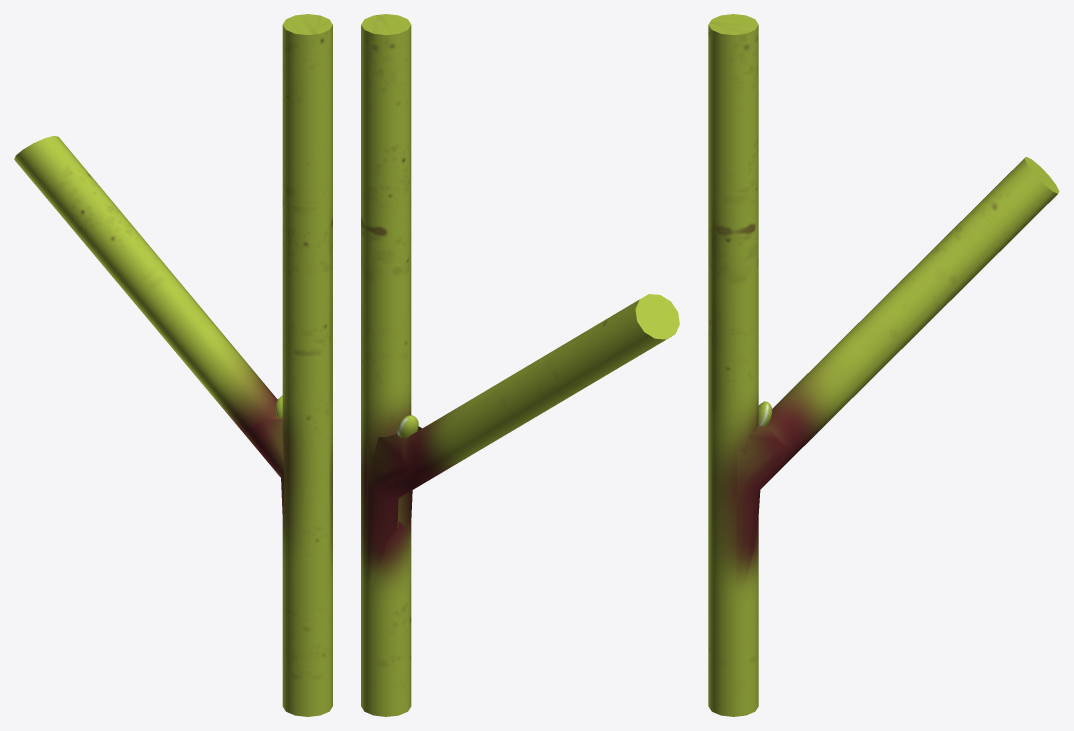
File: axillary.fbx
The picture shows the model from 3 angles, left to right: view 1: azimuth 30°, elevation 25°; view 2: azimuth 210°, elevation 25°; view 3: azimuth 270°, elevation 25°; orthographic projection.
Visible parts, largest first — view 1: stem, stem1; view 2: stem, stem1; view 3: stem, stem1.
Boxes of the visible parts, x1,y1,x2,y2 form: stem: [282, 14, 332, 716]; stem1: [14, 136, 284, 513]; stem: [361, 14, 411, 716]; stem1: [366, 294, 679, 585]; stem: [708, 14, 758, 716]; stem1: [736, 157, 1059, 587].
Bounding box in the file's own units: 15.65 × 63.13 × 29.46.
Materials: 1 (1 with a texture image).
